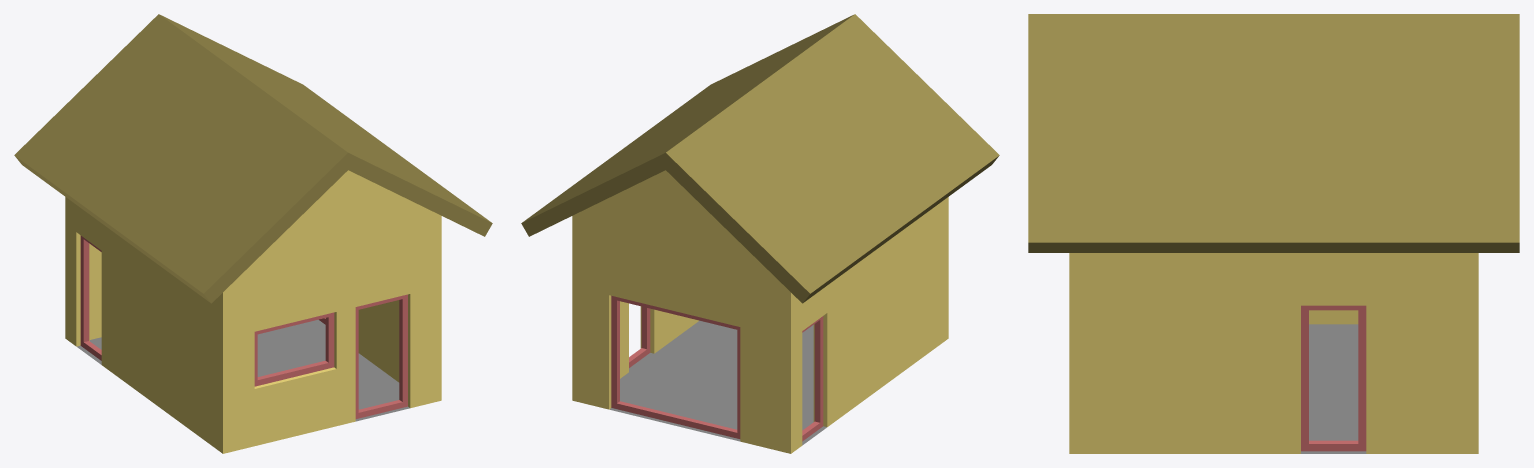
The model's file is result.glb.
3 views of the same model, side by side, from view 1: azimuth 30°, elevation 25°; view 2: azimuth 150°, elevation 25°; view 3: azimuth 270°, elevation 25° (orthographic). The views are drawn at different scales.
Parts seen in each view (by area): view 1: 50c272dc-62a4-485c-93c5-222de55e306c__undefined, 67f8638e-4388-45b7-8127-3afd2a3d3a72__undefined (×2), 9ad1acae-92c1-42be-90f1-b93d51d25cac__Plane_6, fb845b89-700c-4caa-855d-8fa2f1003e5e__Box, e86229ad-bf9e-410b-990e-77b16ec5eba6__Box_3, 1a6c1a12-117e-4a49-b164-dec7e5172b5d__Box_12; view 2: 67f8638e-4388-45b7-8127-3afd2a3d3a72__undefined (×2), 50c272dc-62a4-485c-93c5-222de55e306c__undefined, 9ad1acae-92c1-42be-90f1-b93d51d25cac__Plane_6, 7be0ce77-193c-4f06-8798-ea46a8bc9407__Box_9, 1a6c1a12-117e-4a49-b164-dec7e5172b5d__Box_12, fa360180-3063-43d0-8146-95452bca9196__Box_15; view 3: 67f8638e-4388-45b7-8127-3afd2a3d3a72__undefined, 50c272dc-62a4-485c-93c5-222de55e306c__undefined, 9ad1acae-92c1-42be-90f1-b93d51d25cac__Plane_6, fa360180-3063-43d0-8146-95452bca9196__Box_15.
Part boxes in pixels (<box>): 50c272dc-62a4-485c-93c5-222de55e306c__undefined: <box>65,170,441,453</box>; 67f8638e-4388-45b7-8127-3afd2a3d3a72__undefined (×2): <box>14,14,492,303</box>; 9ad1acae-92c1-42be-90f1-b93d51d25cac__Plane_6: <box>77,319,409,421</box>; fb845b89-700c-4caa-855d-8fa2f1003e5e__Box: <box>355,294,407,418</box>; e86229ad-bf9e-410b-990e-77b16ec5eba6__Box_3: <box>254,312,334,386</box>; 1a6c1a12-117e-4a49-b164-dec7e5172b5d__Box_12: <box>80,235,101,360</box>; 67f8638e-4388-45b7-8127-3afd2a3d3a72__undefined (×2): <box>521,14,999,303</box>; 50c272dc-62a4-485c-93c5-222de55e306c__undefined: <box>572,170,948,453</box>; 9ad1acae-92c1-42be-90f1-b93d51d25cac__Plane_6: <box>609,320,826,445</box>; 7be0ce77-193c-4f06-8798-ea46a8bc9407__Box_9: <box>611,295,740,438</box>; 1a6c1a12-117e-4a49-b164-dec7e5172b5d__Box_12: <box>802,316,823,441</box>; fa360180-3063-43d0-8146-95452bca9196__Box_15: <box>629,306,650,367</box>; 67f8638e-4388-45b7-8127-3afd2a3d3a72__undefined: <box>1028,14,1519,252</box>; 50c272dc-62a4-485c-93c5-222de55e306c__undefined: <box>1069,253,1478,453</box>; 9ad1acae-92c1-42be-90f1-b93d51d25cac__Plane_6: <box>1301,324,1366,453</box>; fa360180-3063-43d0-8146-95452bca9196__Box_15: <box>1301,305,1366,451</box>.
Bounding box in the file's own units: 529 × 500 × 600.
